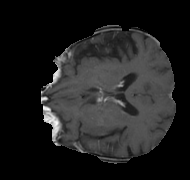Edema: (66, 109, 120, 154)
EnhancingTumors: (72, 126, 101, 147)
Necrosis: (74, 135, 90, 147)
